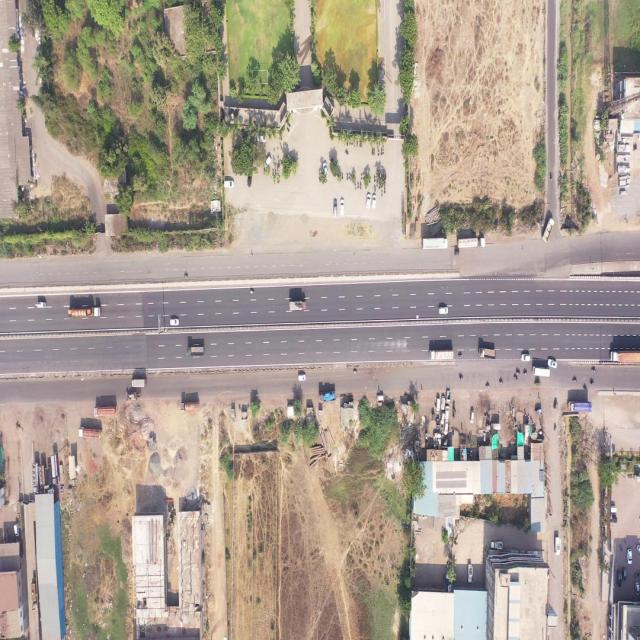3W: (534, 406, 543, 415), (533, 380, 541, 386), (554, 400, 558, 411)
Bus: (532, 366, 551, 376)
Cars: (256, 133, 267, 145), (521, 353, 533, 363), (548, 356, 557, 369), (339, 198, 345, 217), (264, 155, 272, 169), (626, 551, 633, 567), (633, 580, 640, 596), (170, 315, 179, 327), (617, 572, 623, 589), (298, 373, 308, 383), (224, 180, 235, 189), (323, 161, 329, 177), (366, 194, 371, 210), (372, 194, 377, 210), (438, 307, 448, 315), (470, 410, 475, 425), (334, 198, 338, 216), (446, 406, 450, 422), (442, 396, 446, 411), (247, 176, 252, 188), (437, 399, 441, 413), (377, 394, 384, 402), (442, 414, 446, 426)
LCV: (490, 539, 504, 551), (467, 562, 474, 585), (555, 534, 562, 556), (35, 300, 47, 309)
M2W: (498, 377, 504, 386), (485, 382, 490, 391), (591, 367, 597, 374), (249, 288, 255, 295), (458, 373, 463, 381), (582, 385, 588, 391), (458, 351, 463, 358), (184, 272, 188, 280), (523, 371, 528, 377), (573, 377, 577, 384), (360, 173, 363, 182), (374, 174, 377, 183), (377, 149, 380, 158), (513, 376, 518, 381), (274, 168, 277, 176), (516, 369, 520, 375), (356, 140, 359, 147), (373, 147, 375, 157), (590, 380, 594, 385), (347, 173, 349, 182), (357, 181, 359, 190), (381, 190, 383, 199), (341, 172, 343, 181), (350, 172, 352, 181), (383, 149, 385, 157), (360, 183, 362, 191), (355, 184, 357, 191), (351, 141, 353, 147)
MAV: (67, 305, 101, 318), (610, 350, 639, 365), (457, 237, 486, 250)
Truck: (78, 425, 103, 441), (422, 239, 449, 252), (567, 400, 593, 413), (542, 216, 555, 242), (94, 406, 119, 419), (428, 349, 454, 361), (288, 298, 308, 312), (317, 390, 336, 404), (180, 401, 200, 414), (478, 347, 496, 360), (186, 346, 206, 356), (130, 377, 147, 387)
